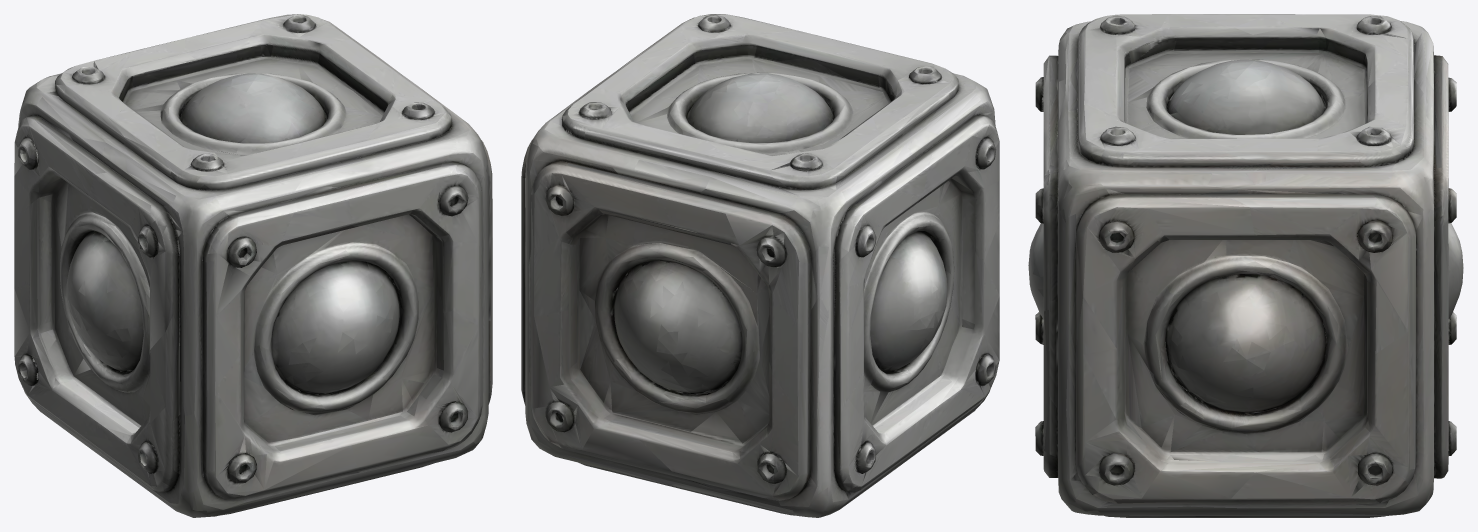
Rendered from kup_metal.glb.
3 renders of one model, left to right at view 1: azimuth 30°, elevation 25°; view 2: azimuth 150°, elevation 25°; view 3: azimuth 270°, elevation 25°, orthographic. The views are drawn at different scales.
Parts seen in each view (by area): view 1: tripo_node_c63312c5-94d8-417a-8f4e-b6d51c126fb6; view 2: tripo_node_c63312c5-94d8-417a-8f4e-b6d51c126fb6; view 3: tripo_node_c63312c5-94d8-417a-8f4e-b6d51c126fb6.
Boxes of the visible parts, <box> form: tripo_node_c63312c5-94d8-417a-8f4e-b6d51c126fb6: <box>14,14,492,517</box>; tripo_node_c63312c5-94d8-417a-8f4e-b6d51c126fb6: <box>521,14,999,517</box>; tripo_node_c63312c5-94d8-417a-8f4e-b6d51c126fb6: <box>1028,14,1463,517</box>.
Bounding box in the file's own units: 0.9786 × 0.9802 × 0.9782.
1 material, 1 textured.
